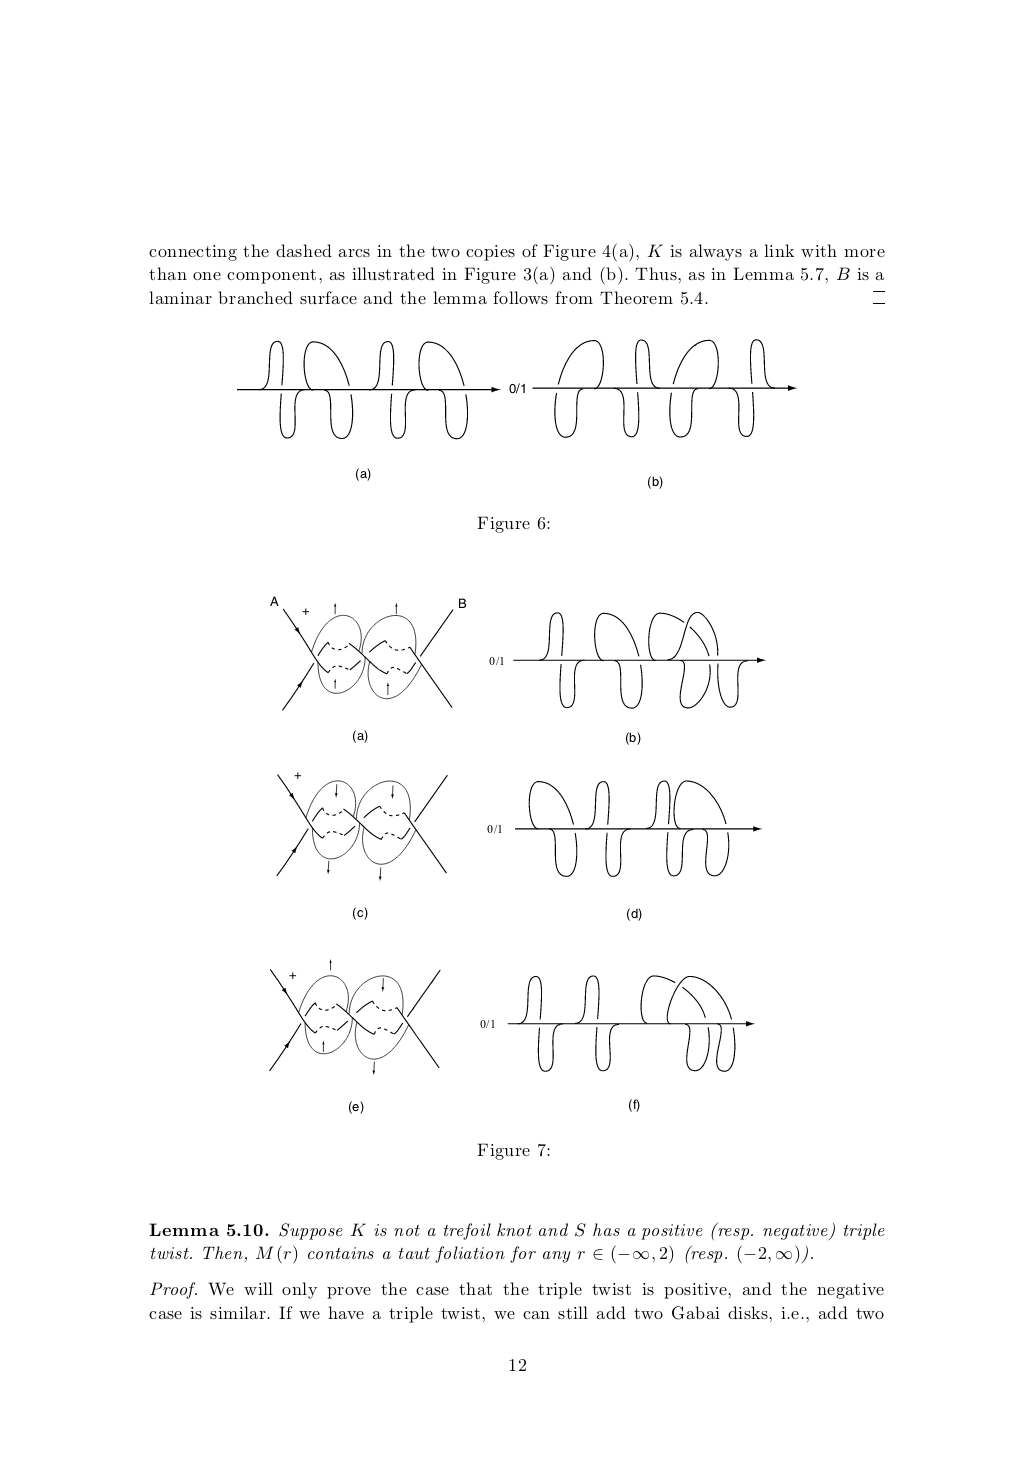figure: (237, 340, 517, 439), (489, 611, 765, 708), (486, 780, 762, 876), (480, 975, 754, 1071), (534, 339, 797, 437), (270, 596, 466, 711), (269, 959, 440, 1075), (276, 772, 447, 880)
